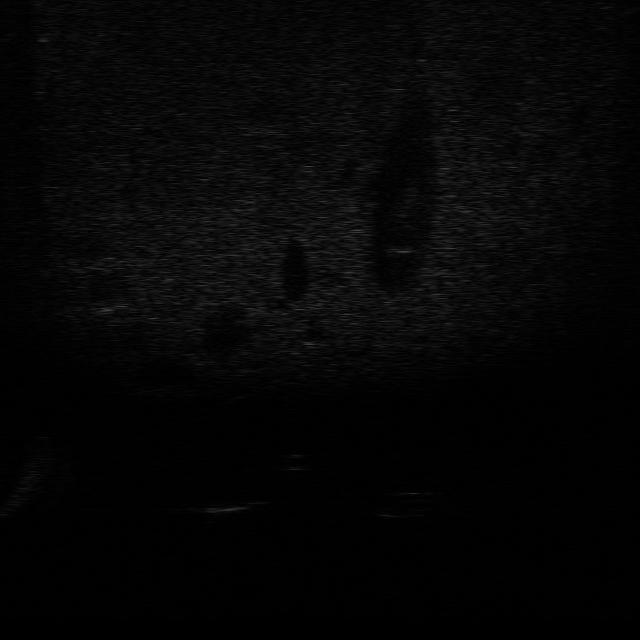ball: (274, 448, 318, 474)
square cage: (191, 493, 270, 526)
tyre: (368, 487, 437, 525)
